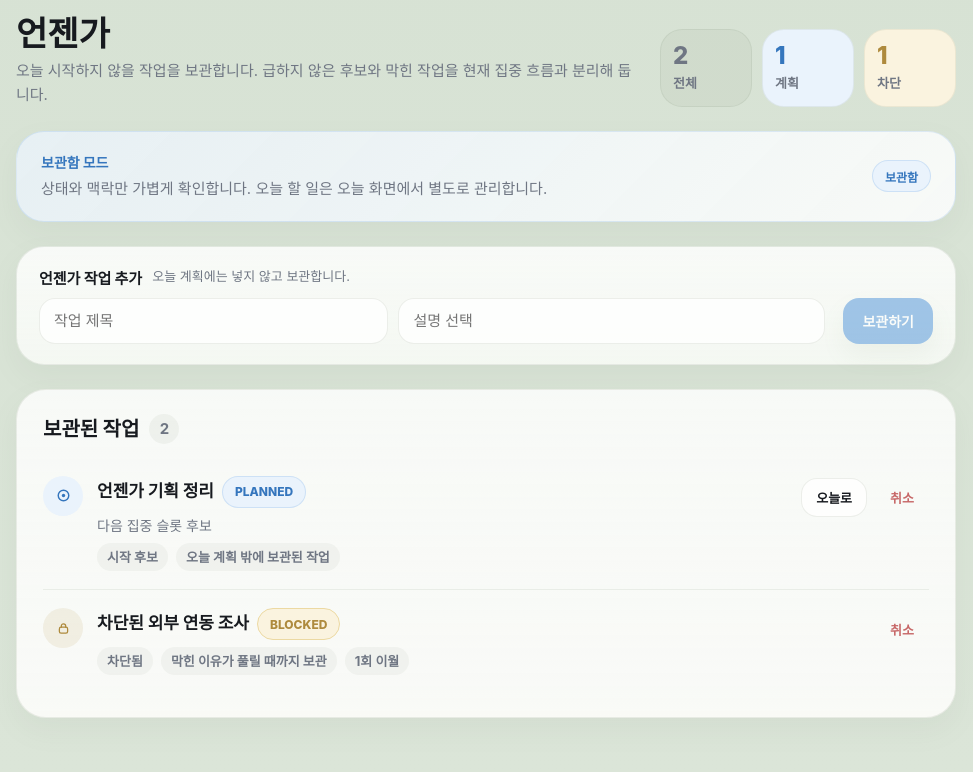
Test case: SomedayScreen task movement › shows the daily limit message when moving to today is rejected
The width and height of the screenshot is (973, 772).
Expected: the text "언젠가 기획 정리" is shown, top-left (97, 480), bottom-right (214, 504)
Click the button "오늘로" at {"x": 834, "y": 497}, box top-left (801, 478), bottom-right (867, 517)
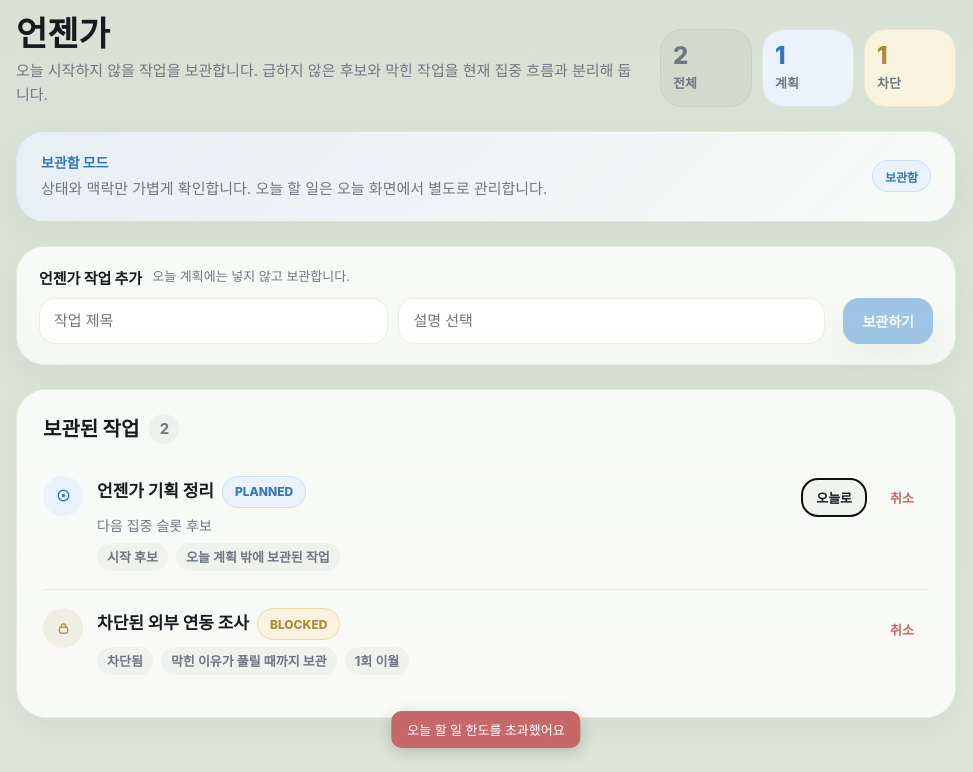
Result: the text "오늘 할 일 한도를 초과했어요" is shown at top-left (391, 711), bottom-right (581, 748)
